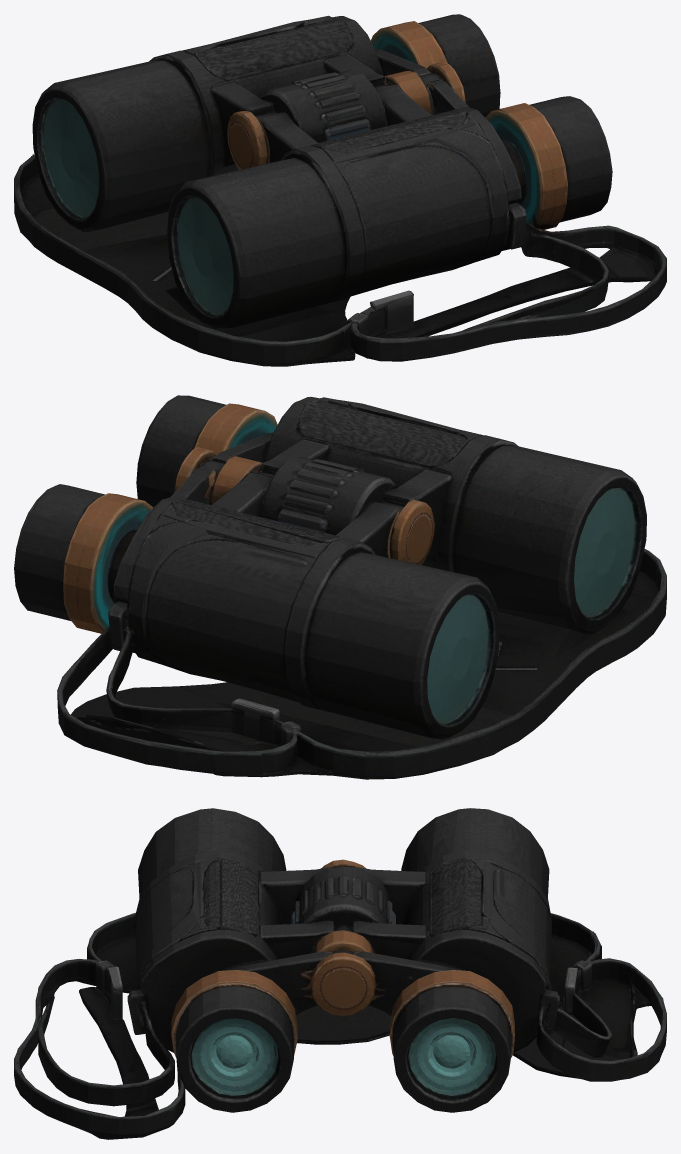
Rendered from Binoculares.glb.
3 views of the same model, one above another, from view 1: azimuth 30°, elevation 25°; view 2: azimuth 150°, elevation 25°; view 3: azimuth 270°, elevation 25° (orthographic). The views are drawn at different scales.
Parts seen in each view (by area): view 1: tripo_node_2dac17f7-0095-4270-bf38-4dbaa4c447bf; view 2: tripo_node_2dac17f7-0095-4270-bf38-4dbaa4c447bf; view 3: tripo_node_2dac17f7-0095-4270-bf38-4dbaa4c447bf.
Boxes of the visible parts, x1,y1,x2,y2 form: tripo_node_2dac17f7-0095-4270-bf38-4dbaa4c447bf: (14, 14, 666, 366); tripo_node_2dac17f7-0095-4270-bf38-4dbaa4c447bf: (14, 395, 666, 779); tripo_node_2dac17f7-0095-4270-bf38-4dbaa4c447bf: (14, 808, 666, 1139).
Size of the model in its own units: 0.4747 by 0.1634 by 0.6095.
1 material, 1 textured.
